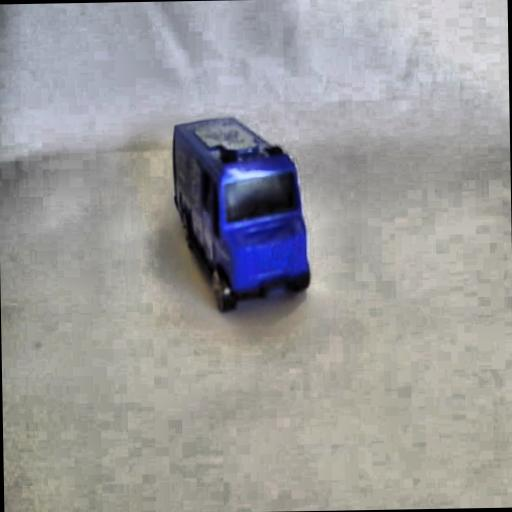police car: (166, 117, 324, 316)
